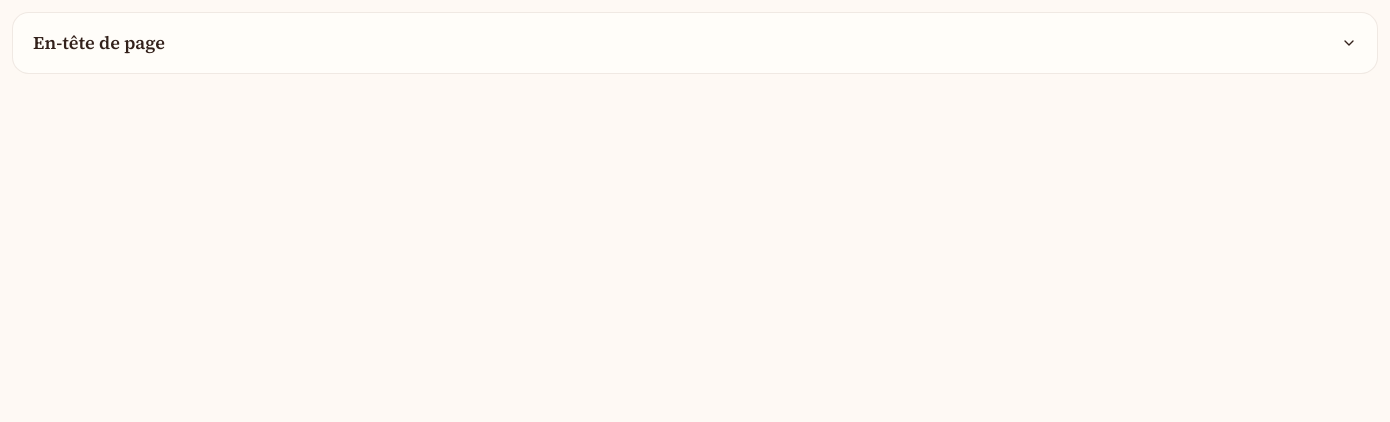
Test case: PageHeaderContentForm › renders the fields with the initial data
Click the button "En-tête de page". click: (99, 42)
box: top-left (13, 13), bottom-right (1377, 73)
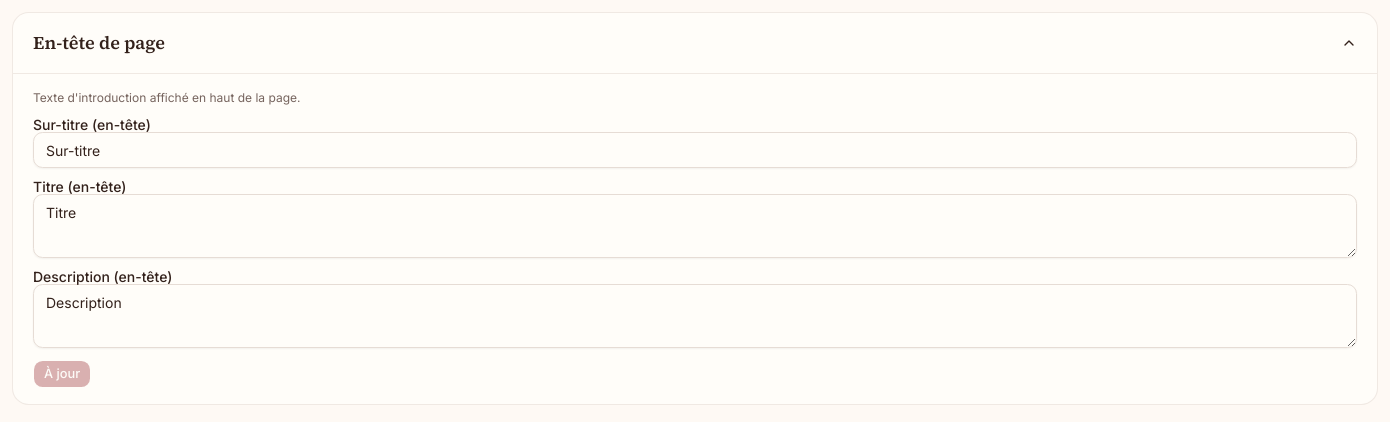
expect the field holds "Sur-titre": met, box top-left (33, 132), bottom-right (1357, 168)
expect the 1st text box holds "Titre": met, box top-left (33, 194), bottom-right (1357, 258)
expect the text box below "Description (en-tête)" holds "Description": met, box top-left (33, 284), bottom-right (1357, 348)
